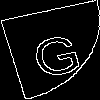G: (25, 25, 86, 80)
